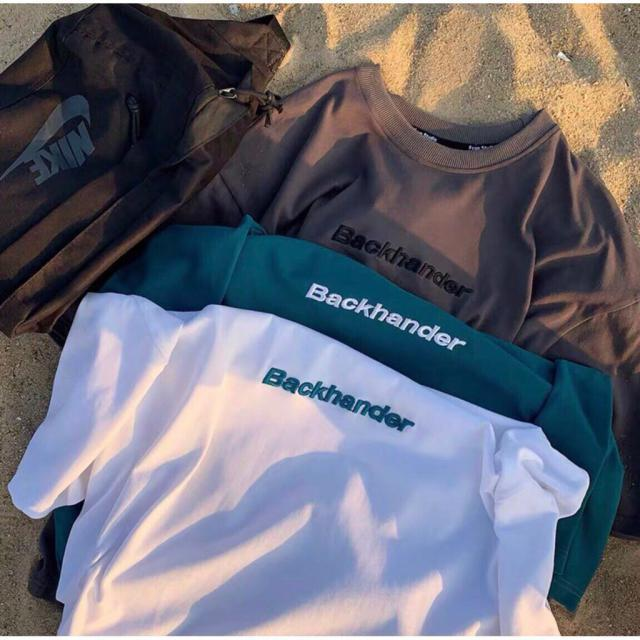Shirt: (5, 290, 592, 640), (154, 61, 638, 466)
